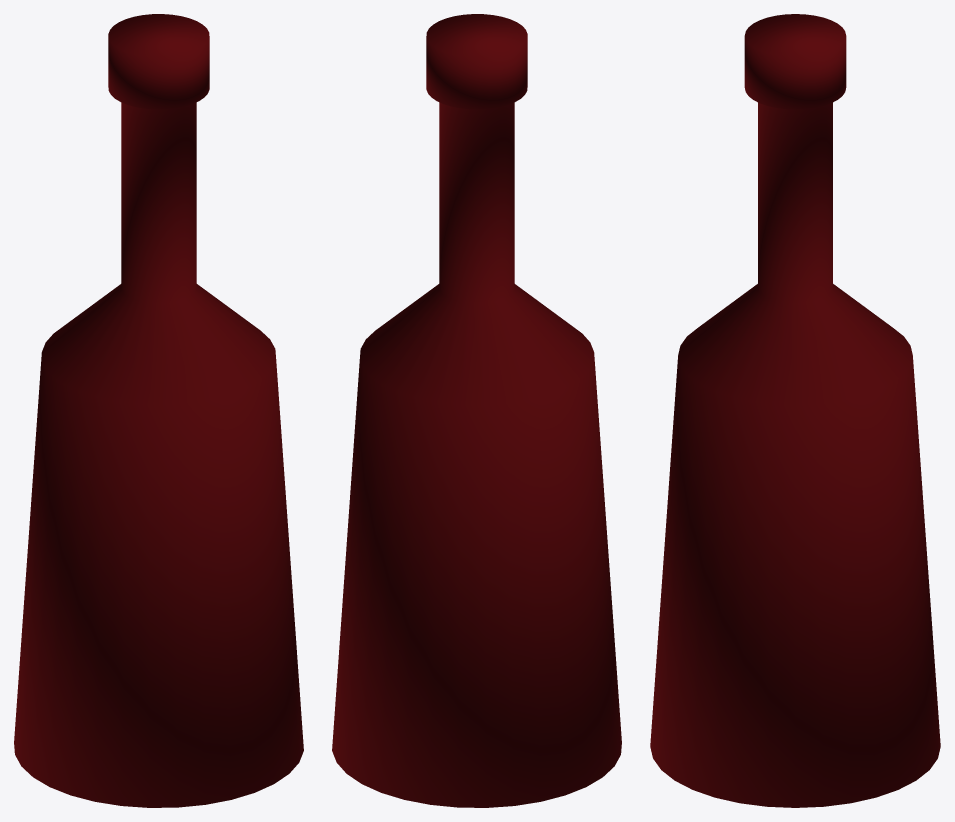
Rendered from Botella.fbx.
3 views of the same model, side by side, from view 1: azimuth 30°, elevation 25°; view 2: azimuth 150°, elevation 25°; view 3: azimuth 270°, elevation 25° (orthographic).
Visible parts, largest first — view 1: Botella bien roja; view 2: Botella bien roja; view 3: Botella bien roja.
Boxes of the visible parts, x1=… form: Botella bien roja: x1=14, y1=14, x2=303, y2=807; Botella bien roja: x1=332, y1=14, x2=621, y2=807; Botella bien roja: x1=650, y1=14, x2=940, y2=807.
Bounding box in the file's own units: 200 × 540 × 200.
